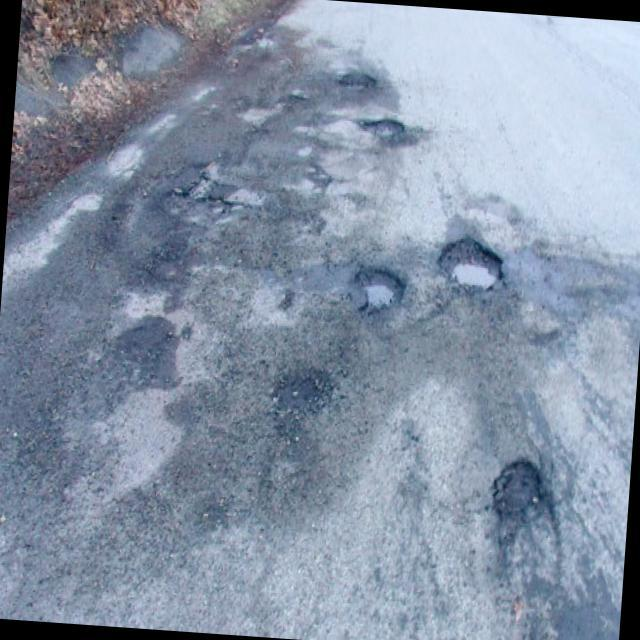Pothole: (488, 454, 562, 559), (268, 364, 336, 436), (437, 234, 510, 294), (176, 170, 246, 228), (255, 272, 305, 335), (354, 256, 404, 318), (358, 108, 404, 146), (334, 67, 378, 100)
